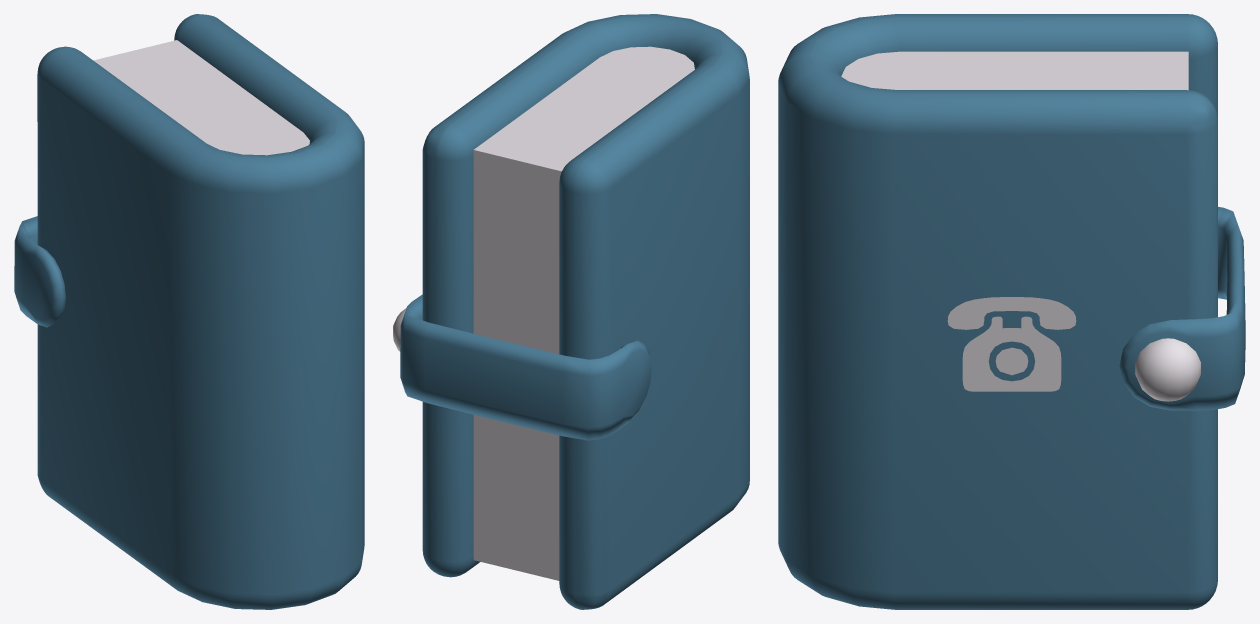
Rendered from Kontaktbuch.gltf.
3 renders of one model, left to right at view 1: azimuth 30°, elevation 25°; view 2: azimuth 150°, elevation 25°; view 3: azimuth 270°, elevation 25°, orthographic. The views are drawn at different scales.
Parts seen in each view (by area): view 1: Kontaktbuch.001; view 2: Kontaktbuch.001; view 3: Kontaktbuch.001.
Part boxes in pixels (x1,y1,x2,y2): Kontaktbuch.001: [14, 14, 364, 609]; Kontaktbuch.001: [393, 14, 749, 609]; Kontaktbuch.001: [778, 14, 1245, 609].
Bounding box in the file's own units: 0.0562 × 0.1016 × 0.0838.
